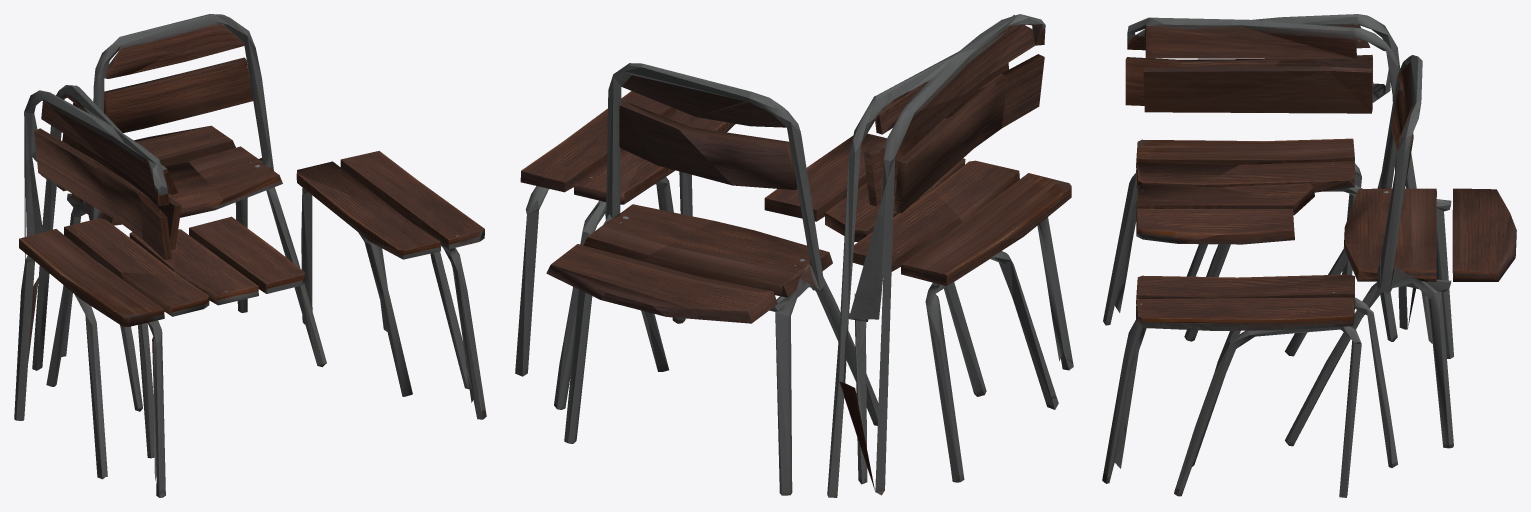
File: PR_StackOfFoldedChairs.fbx
The picture shows the model from 3 angles, left to right: view 1: azimuth 30°, elevation 25°; view 2: azimuth 150°, elevation 25°; view 3: azimuth 270°, elevation 25°; orthographic projection. The views are drawn at different scales.
Parts seen in each view (by area): view 1: Mesh_0; view 2: Mesh_0; view 3: Mesh_0.
Boxes of the visible parts, bbox=[...] form: Mesh_0: bbox=[14, 14, 486, 497]; Mesh_0: bbox=[515, 14, 1073, 497]; Mesh_0: bbox=[1102, 14, 1516, 497].
Bounding box in the file's own units: 189 × 156 × 178.
1 material, 1 textured.
